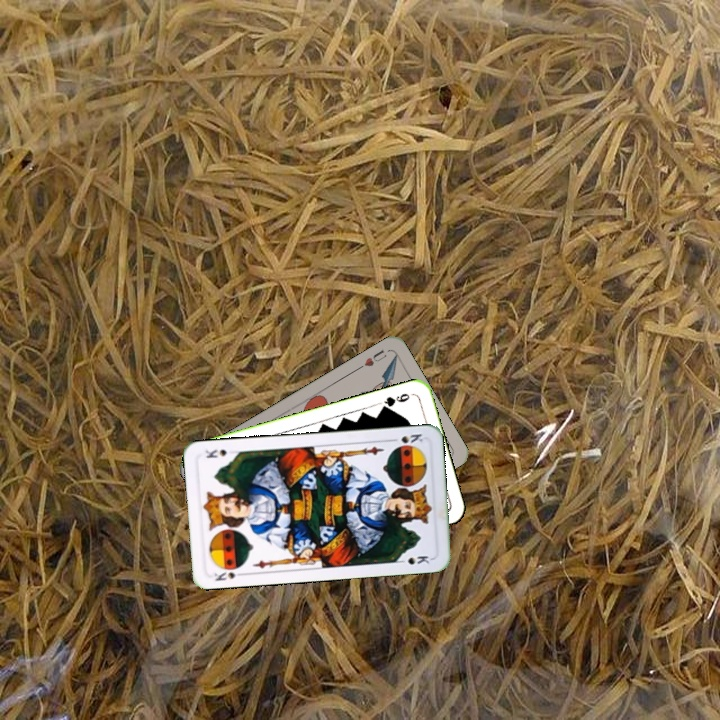G9: (378, 389, 416, 412)
HU: (354, 345, 389, 372)
SK: (386, 430, 426, 446), (210, 567, 247, 584)
